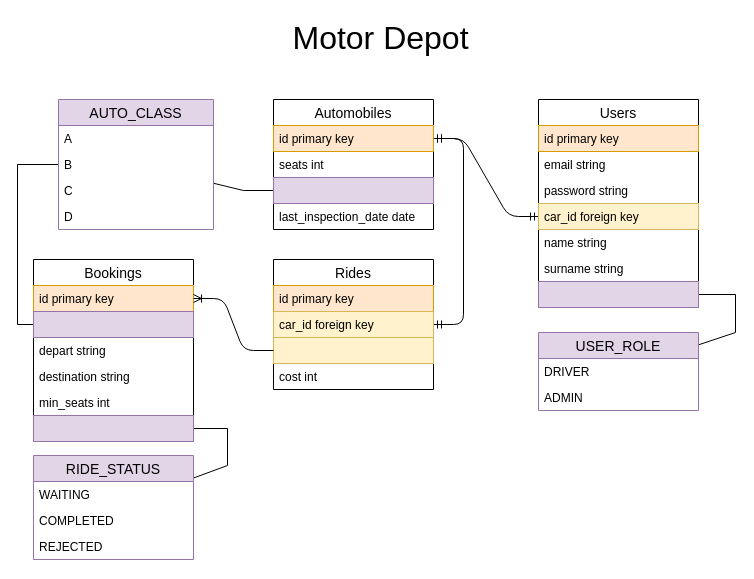
The diagram is 754 pixels wide and 579 high, and some of its shapes have lost their labels. Each missing label, with the centre of its shape:
"booking_id foreign key" goes at [353,350].
"class class" goes at [353,190].
"min_class enum" goes at [113,324].
"role role" goes at [618,294].
"status enum" goes at [113,428].
